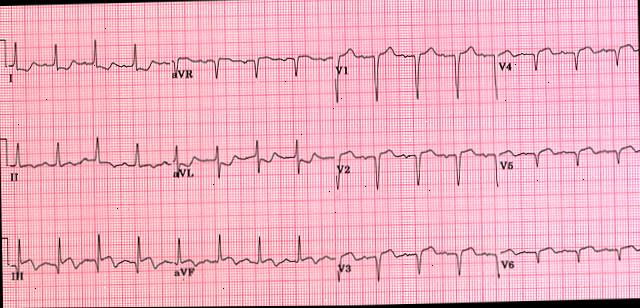Lead_I: (3, 33, 172, 91)
Lead_II: (4, 129, 172, 190)
Lead_III: (6, 229, 173, 287)
Lead_V1: (330, 34, 498, 107)
Lead_V2: (334, 135, 501, 196)
Lead_V3: (334, 235, 501, 291)
Lead_V4: (497, 33, 639, 81)
Lead_V5: (495, 131, 640, 180)
Lead_V6: (496, 231, 640, 283)
Lead_aVF: (170, 224, 338, 285), (171, 227, 336, 279)
Lead_aVL: (169, 134, 336, 186)
Lead_aVR: (168, 39, 334, 92)
